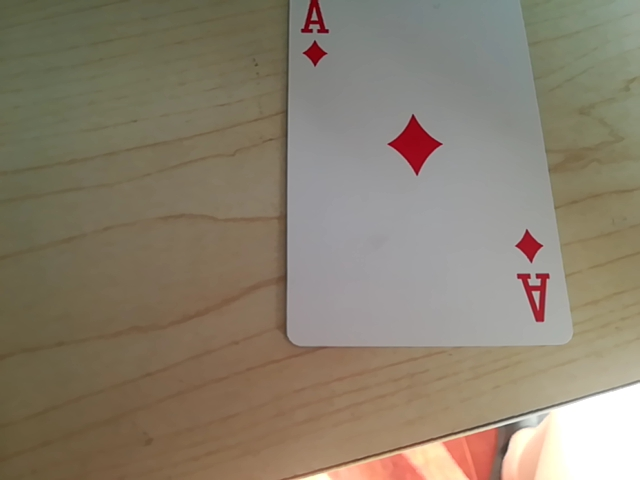fk a: (292, 7, 336, 69), (517, 256, 555, 324)
